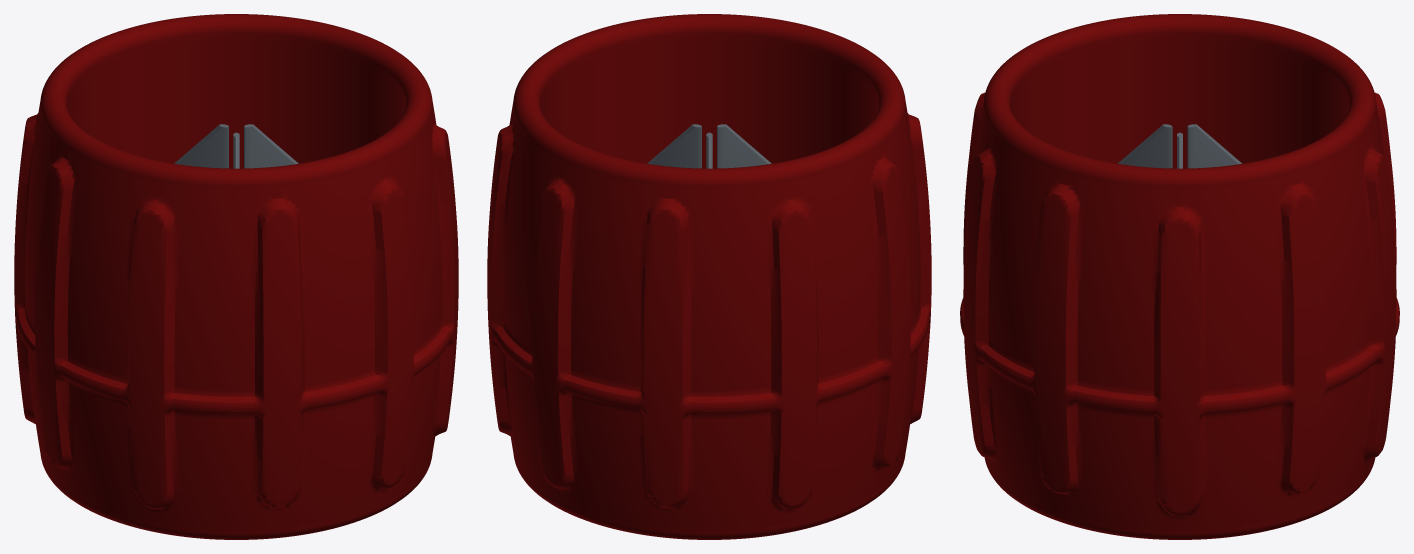
3 renders of one model, left to right at view 1: azimuth 30°, elevation 25°; view 2: azimuth 150°, elevation 25°; view 3: azimuth 270°, elevation 25°, orthographic.
Visible parts, largest first — view 1: part_000_Molded_grip_shell, part_002_Cutting_blade_2, part_003_Cutting_blade_1; view 2: part_000_Molded_grip_shell, part_001_Cutting_blade_3, part_003_Cutting_blade_1; view 3: part_000_Molded_grip_shell, part_001_Cutting_blade_3, part_002_Cutting_blade_2.
Boxes of the visible parts, x1,y1,x2,y2 form: part_000_Molded_grip_shell: (14,14,458,539); part_002_Cutting_blade_2: (174,124,228,168); part_003_Cutting_blade_1: (244,124,298,168); part_000_Molded_grip_shell: (487,14,931,539); part_001_Cutting_blade_3: (717,124,771,168); part_003_Cutting_blade_1: (647,124,701,168); part_000_Molded_grip_shell: (960,14,1399,539); part_001_Cutting_blade_3: (1118,124,1172,168); part_002_Cutting_blade_2: (1187,124,1241,168).
Bounding box in the file's own units: 0.0666 × 0.061 × 0.0659.
